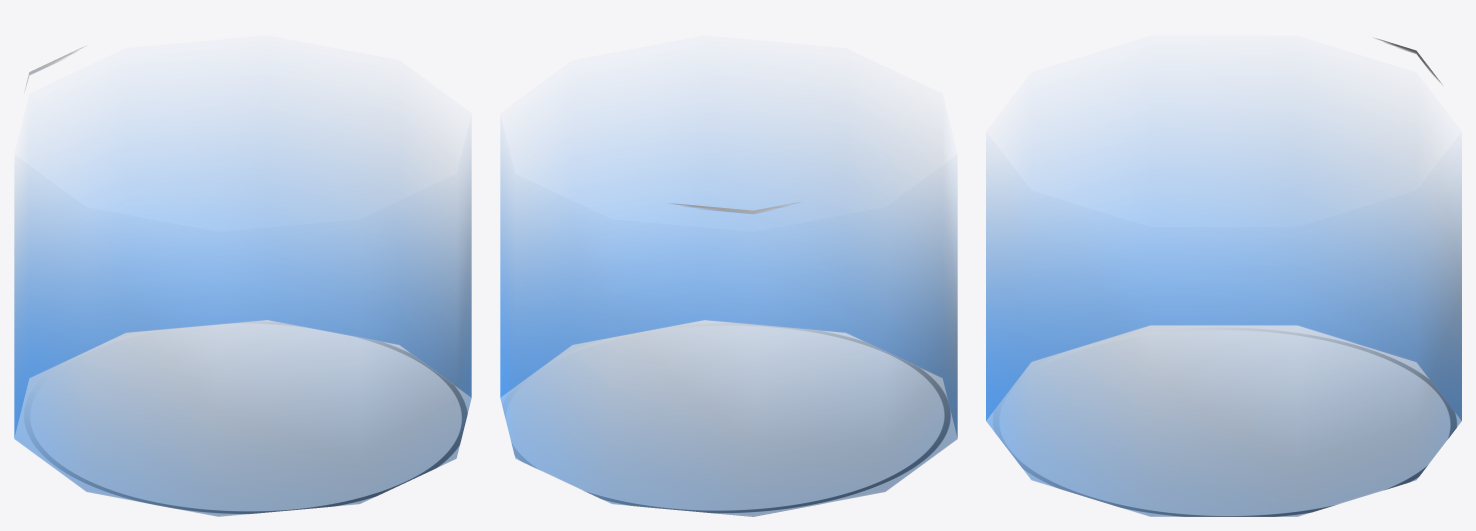
File: teleport.glb
3 views of the same model, side by side, from view 1: azimuth 30°, elevation 25°; view 2: azimuth 150°, elevation 25°; view 3: azimuth 270°, elevation 25° (orthographic).
Visible parts, largest first — view 1: Circle; view 2: Circle; view 3: Circle.
Part boxes in pixels (<box>): Circle: <box>14,46,471,516</box>; Circle: <box>500,119,957,516</box>; Circle: <box>986,38,1461,516</box>.
Bounding box in the file's own units: 1.9 × 1.45 × 2.
Materials: 1 (1 with a texture image).
